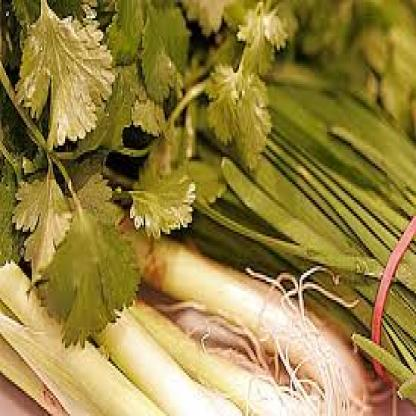Disposable tableware: (4, 2, 416, 415)
